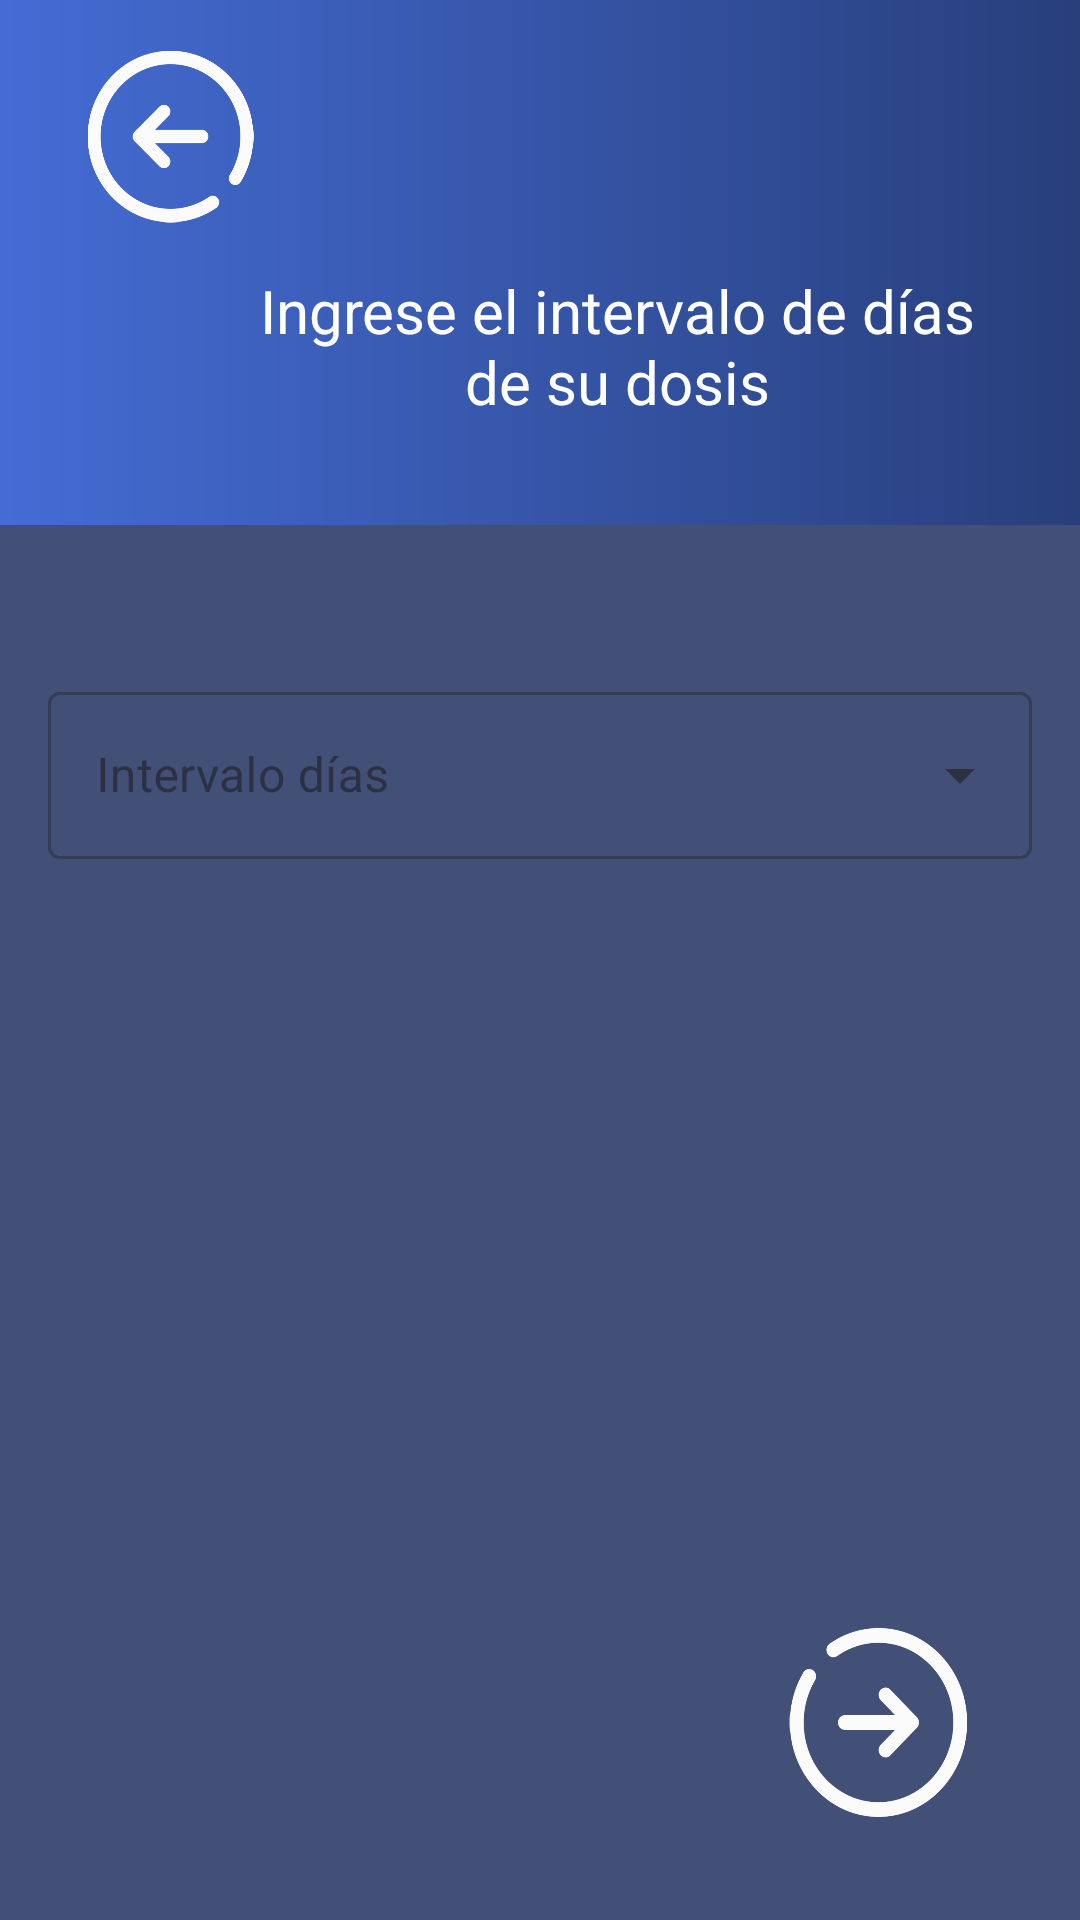

Icons on this 1080*1920 Android screen, each with the point to tap as point (x, y):
siguiente: point (878, 1722)
